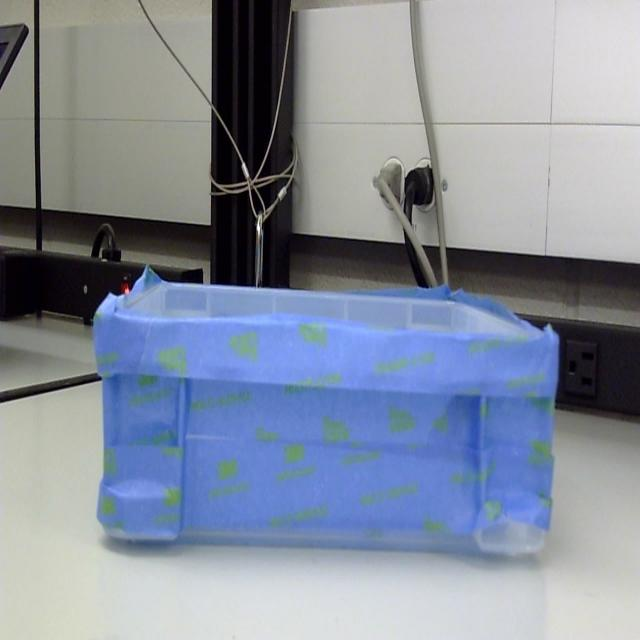bucket: (92, 271, 560, 563)
